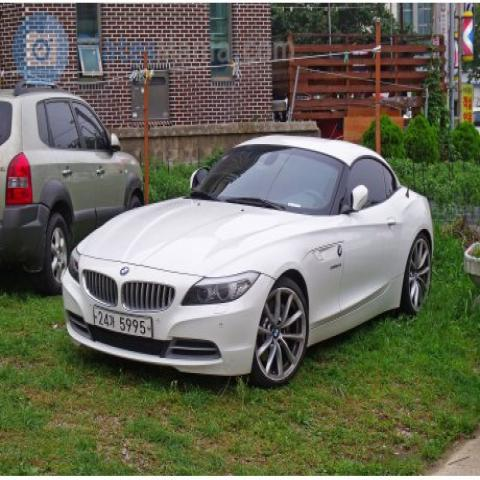LP: (88, 294, 165, 346)
